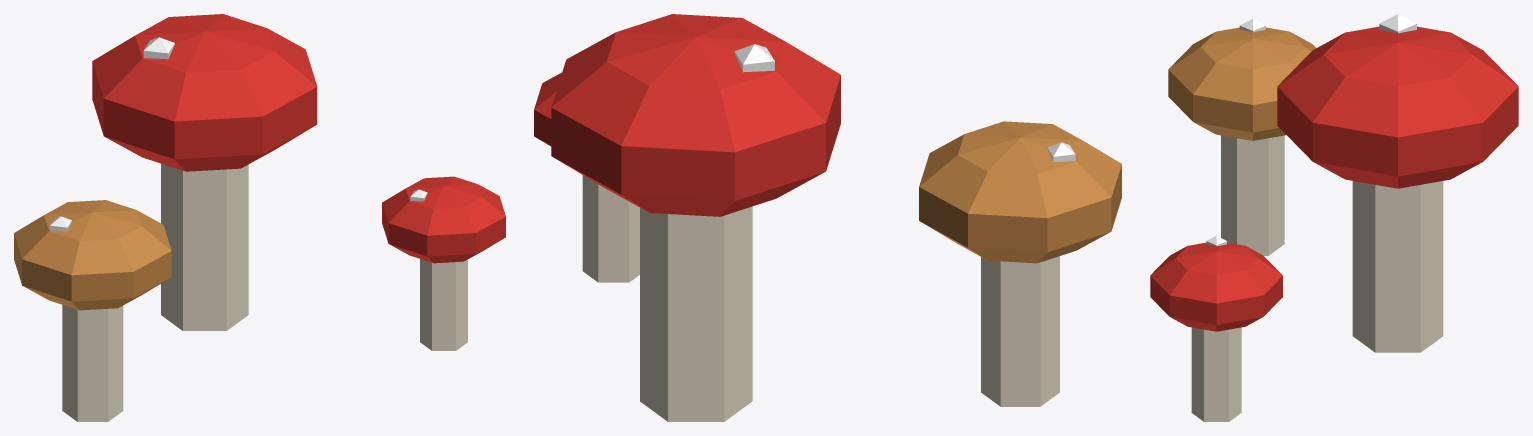
The model's file is toadstool.fbx.
3 renders of one model, left to right at view 1: azimuth 30°, elevation 25°; view 2: azimuth 150°, elevation 25°; view 3: azimuth 270°, elevation 25°, orthographic. The views are drawn at different scales.
Visible parts, largest first — view 1: toadstool; view 2: toadstool; view 3: toadstool.
Boxes of the visible parts, x1,y1,x2,y2 form: toadstool: (14,14,505,421); toadstool: (534,14,1121,421); toadstool: (1150,14,1518,421).
Size of the model in its own units: 1.21 by 0.728 by 0.8128.
